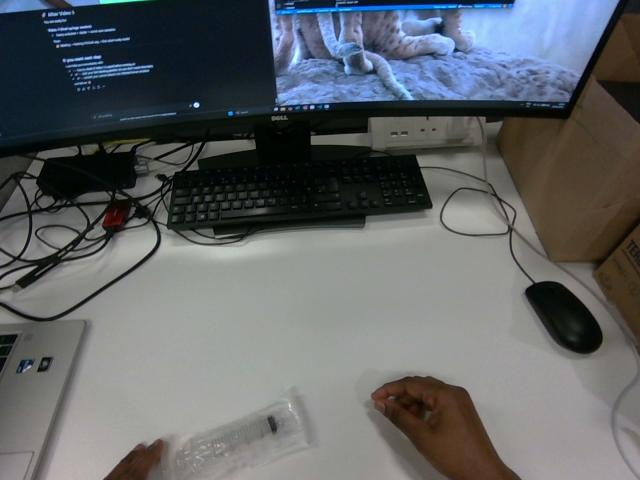syringe: (162, 392, 309, 480)
